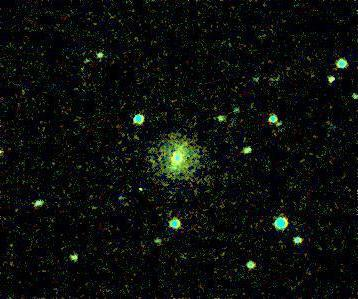star: (169, 127, 199, 157)
